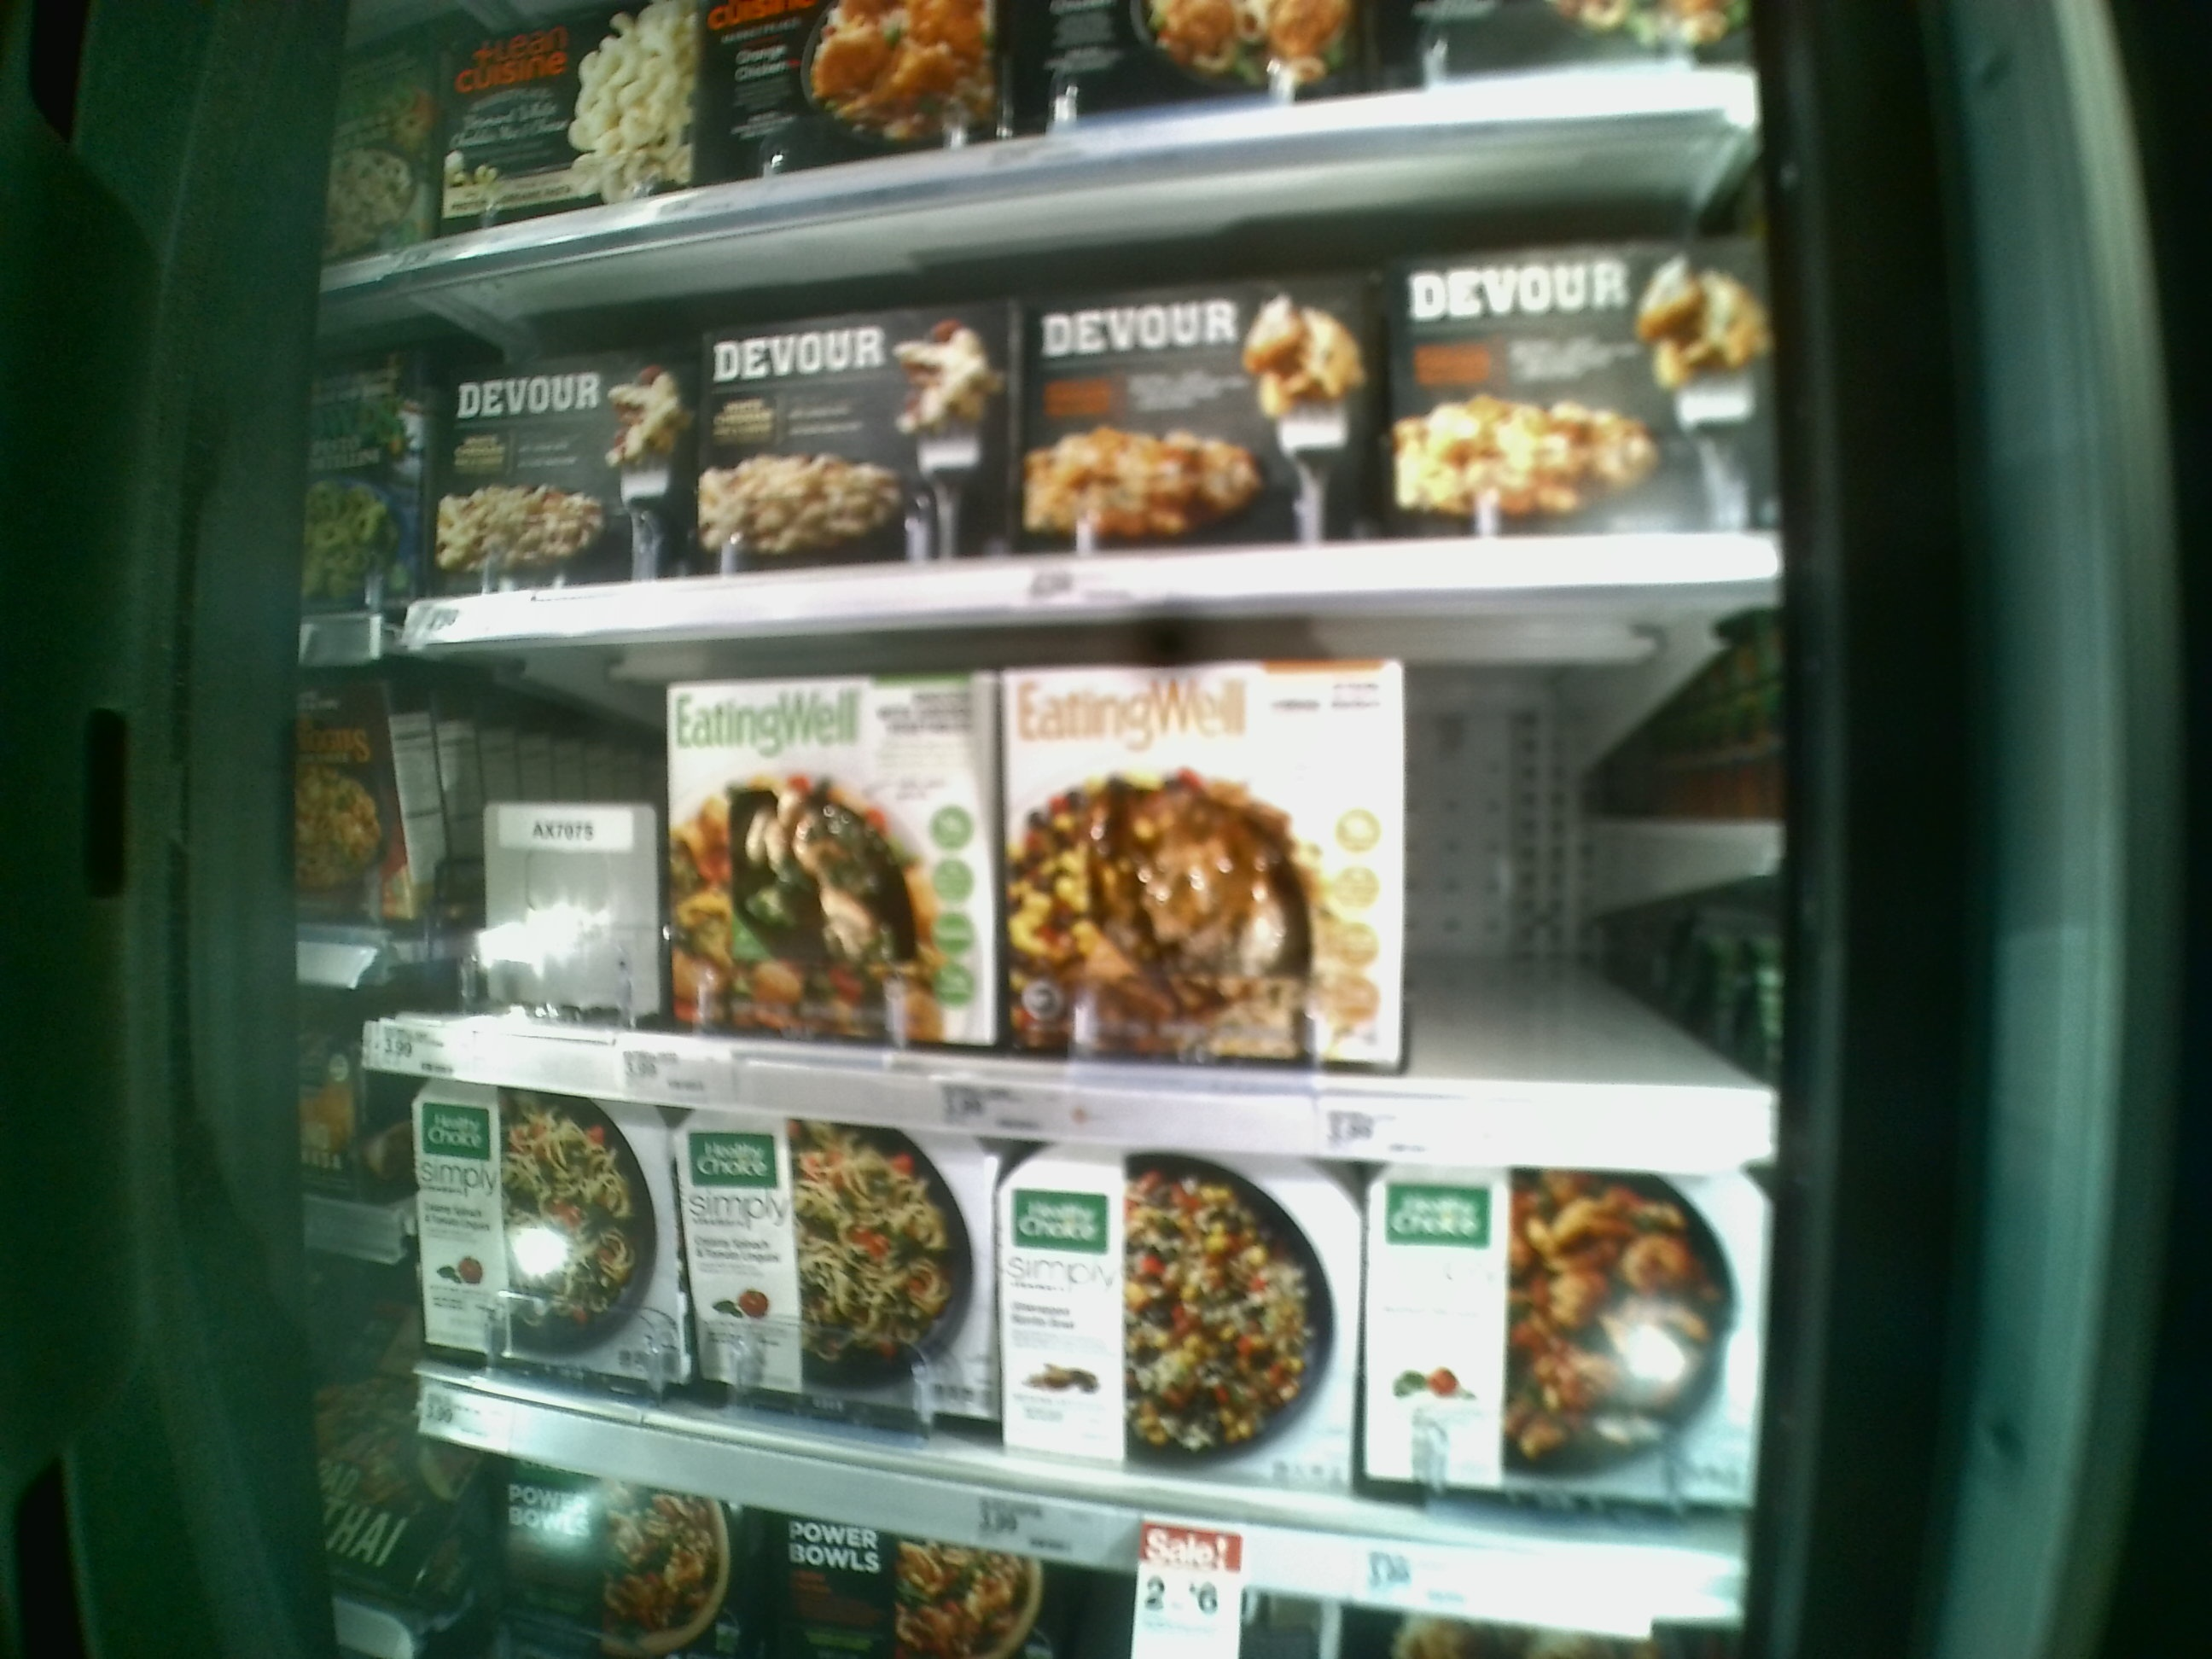pizza: (989, 664, 1406, 1063), (1367, 1161, 1761, 1527), (662, 687, 1000, 1051), (993, 1166, 1360, 1493), (1386, 239, 1771, 523), (678, 1115, 1003, 1417), (676, 281, 1003, 563), (1017, 291, 1386, 538), (408, 1089, 691, 1398), (427, 380, 697, 596), (441, 0, 702, 214), (493, 1471, 770, 1652)
